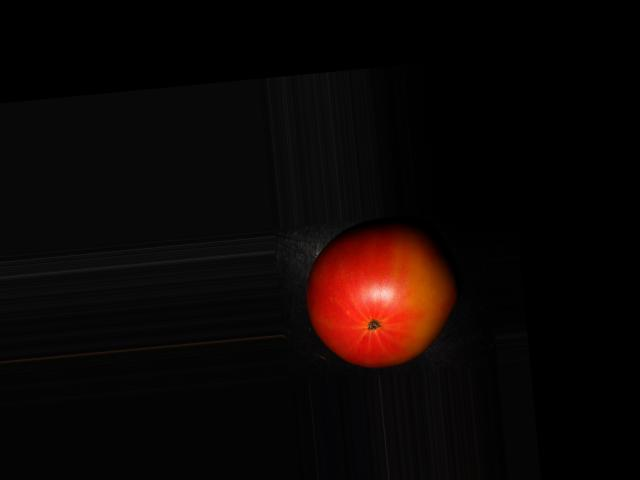tomato: (300, 216, 462, 373)
